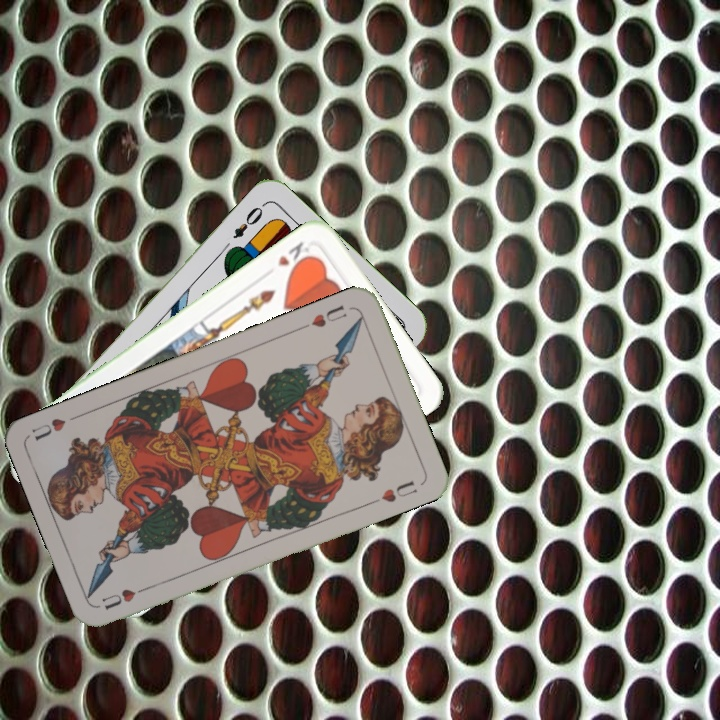EO: (229, 199, 268, 242)
HK: (273, 237, 315, 274)
HU: (97, 581, 153, 612), (307, 301, 349, 330)
